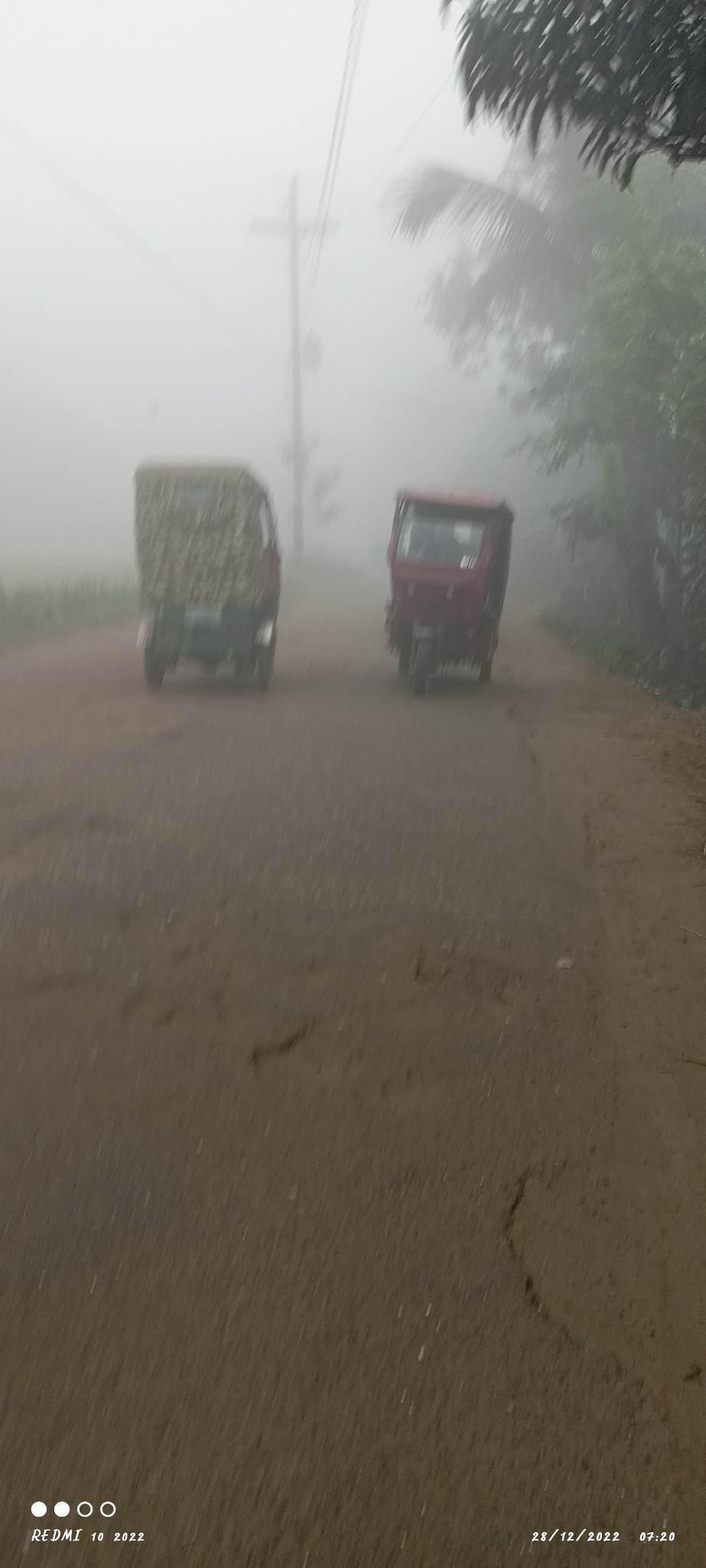Car: (96, 433, 325, 694), (354, 449, 542, 694)
